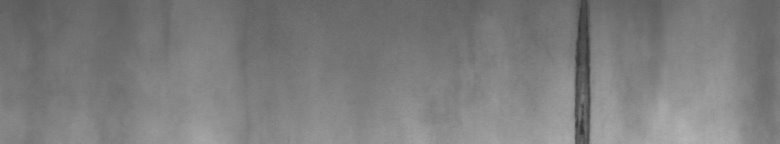hd: (568, 4, 599, 136)
